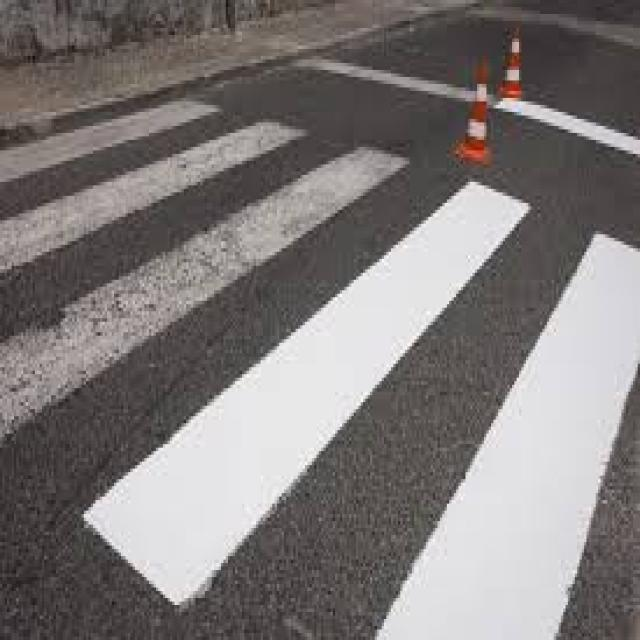Crosswalk: (0, 91, 639, 640)
